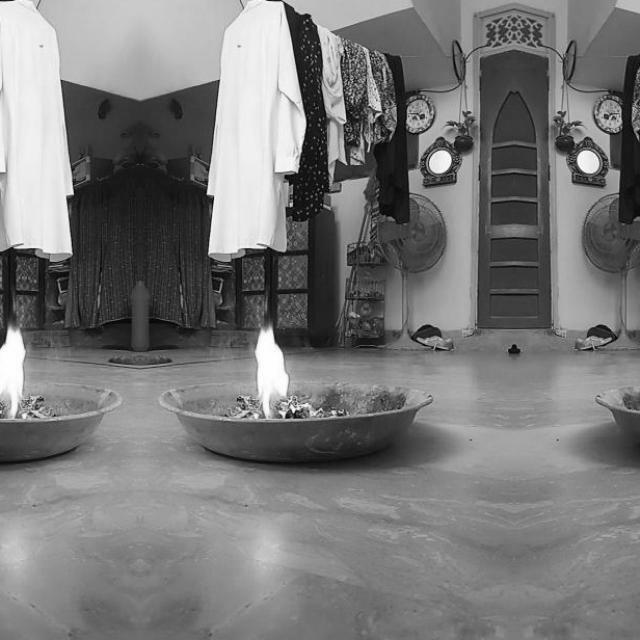smoke: (254, 322, 292, 418), (0, 322, 26, 417)
